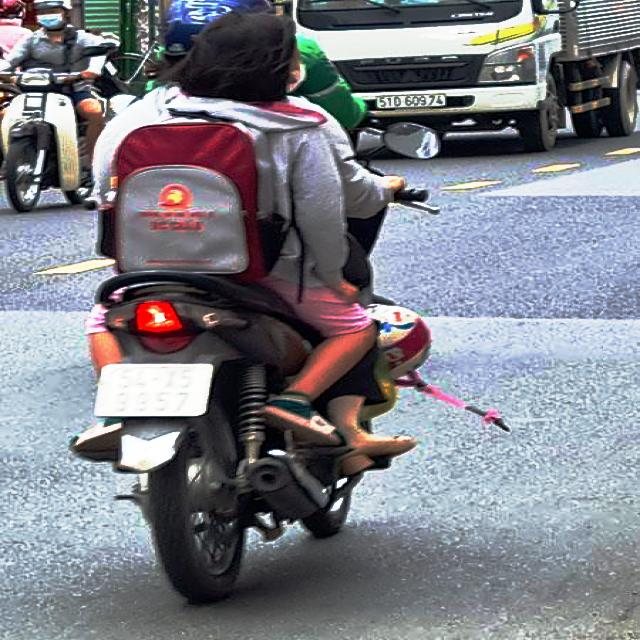license_plate: (95, 365, 214, 421)
